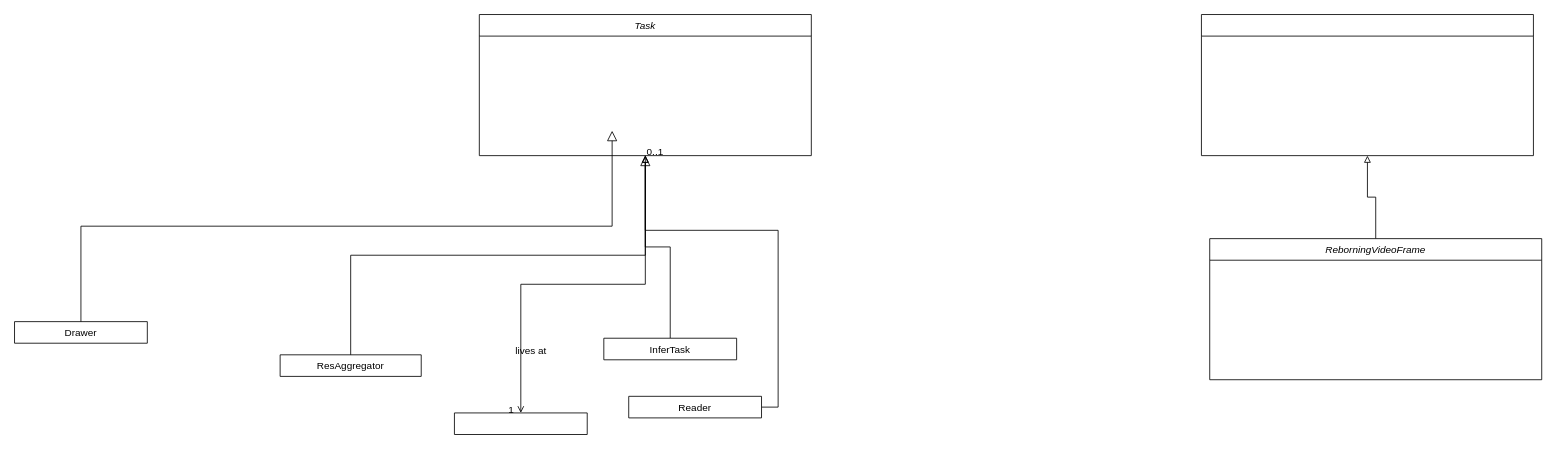
This 1556x449 diagram has some shape labels left out. Each missing label, with the centre of its shape:
"DetectionsProcessor" goes at point 520,423.
"VideoFrame" goes at point 1367,85.
